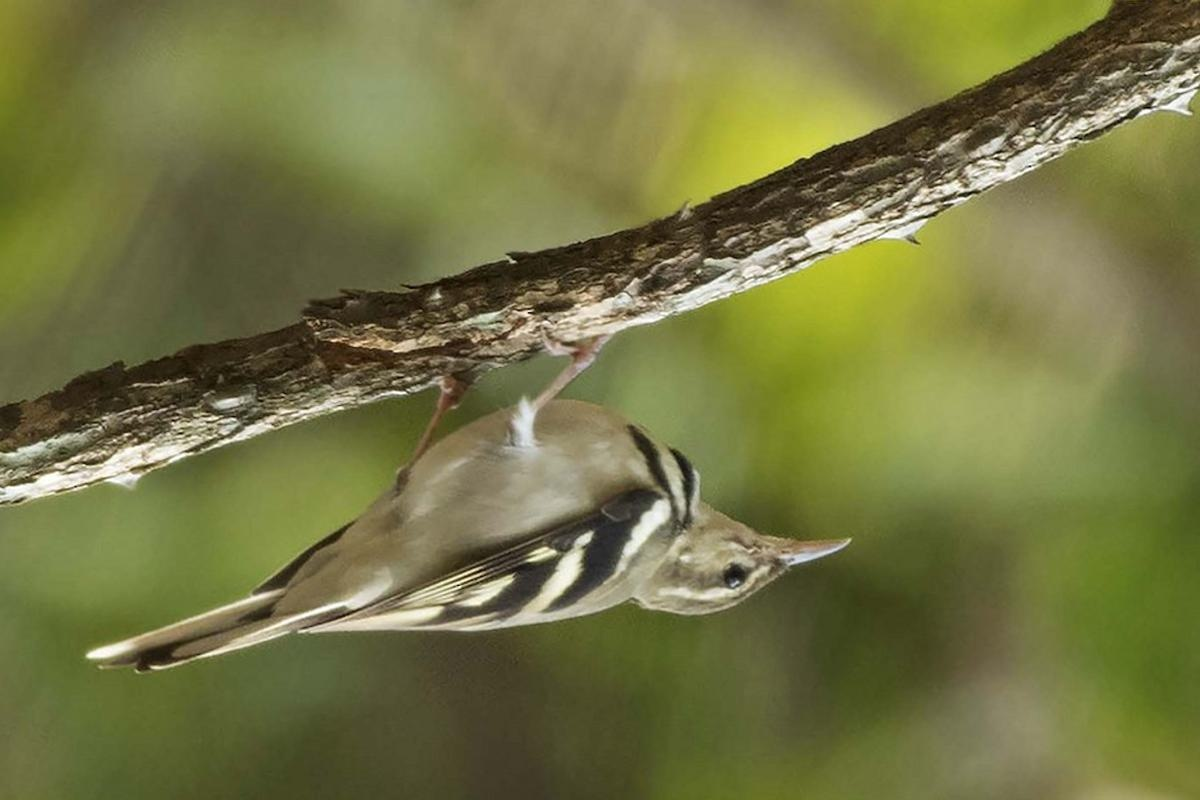wagtail: (106, 353, 863, 643)
